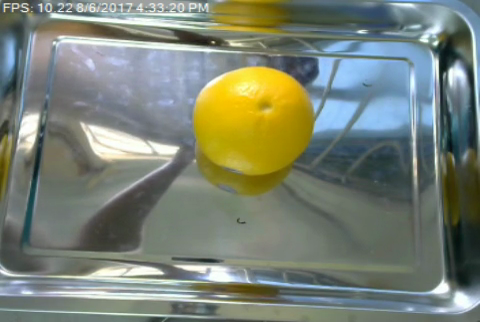Orange: (191, 66, 316, 175)
